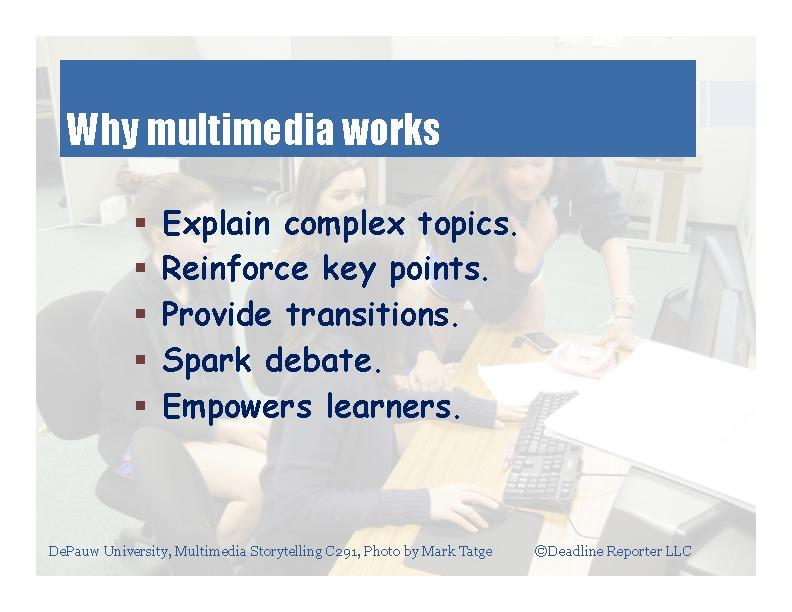paragraph: (116, 182, 607, 459)
title: (61, 98, 454, 162)
